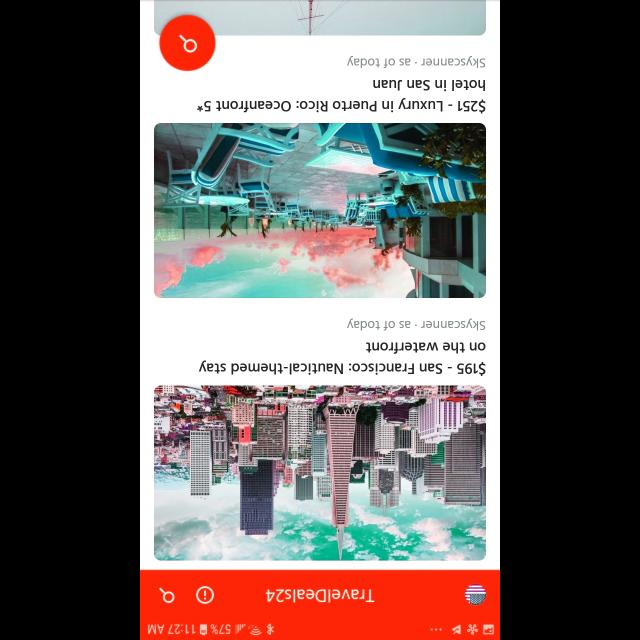icon: (160, 14, 216, 72), (196, 585, 214, 603), (159, 587, 175, 603)
image: (154, 122, 486, 298), (154, 386, 486, 560), (154, 0, 486, 36), (464, 584, 486, 604)
text: (198, 78, 487, 114), (198, 342, 486, 376), (346, 318, 486, 330), (347, 56, 485, 68), (266, 589, 374, 603)
uppertaskbar: (140, 622, 500, 640)
